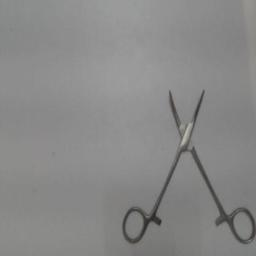Crile Artery Forceps: (118, 84, 254, 248)
